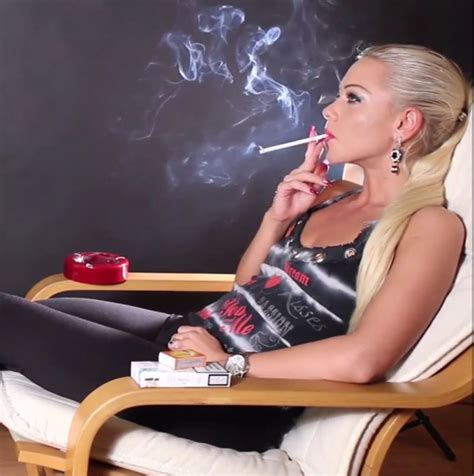cigarette: (131, 363, 235, 389), (257, 131, 331, 156), (157, 347, 207, 370)
